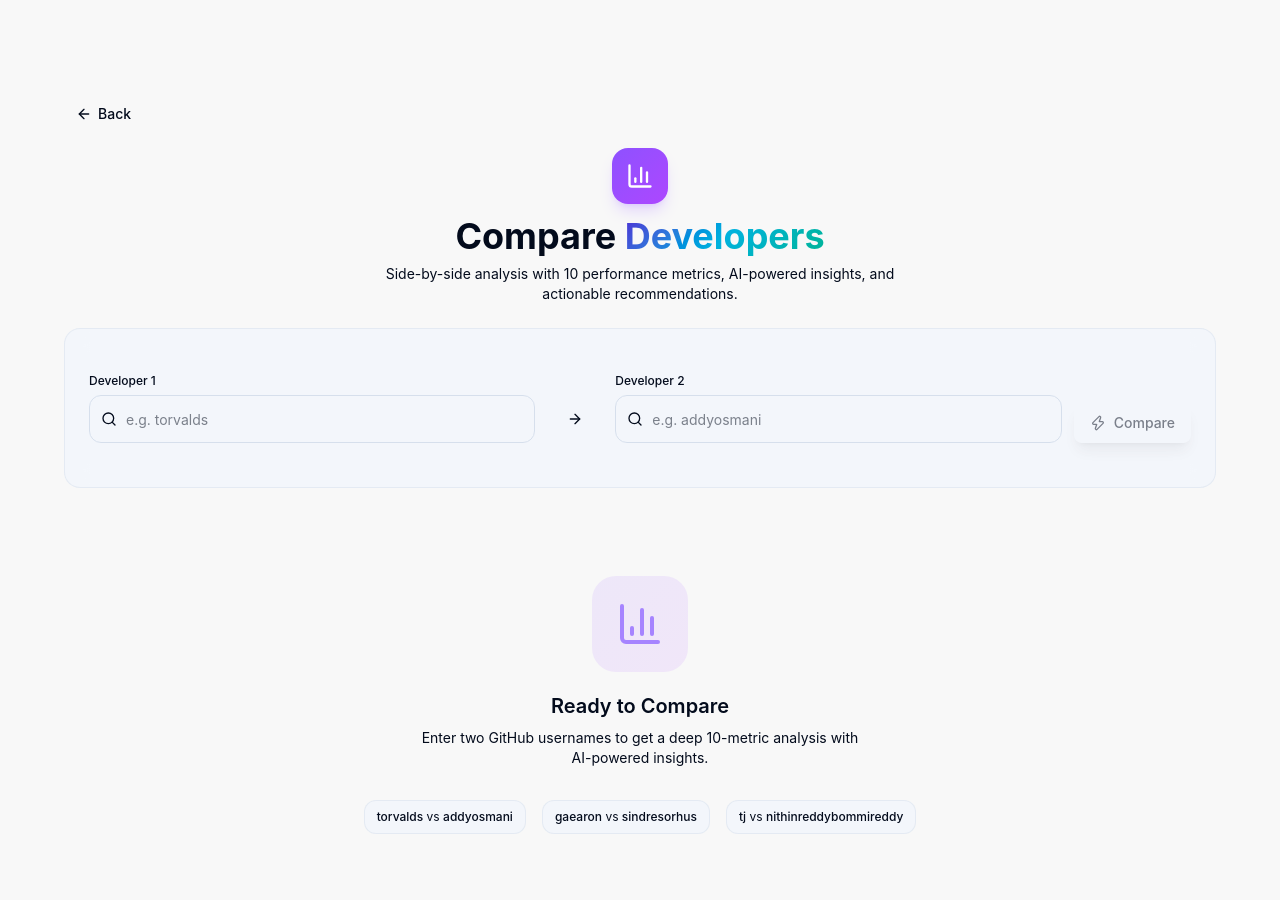
Test case: ComparePage › still renders when one user's data fails — per-user error only
This screenshot has width=1280, height=900.
Type "alice" into the field with placeholder "e.g. torvalds".
click(312, 419); type("alice")  # box [89,395,535,443]
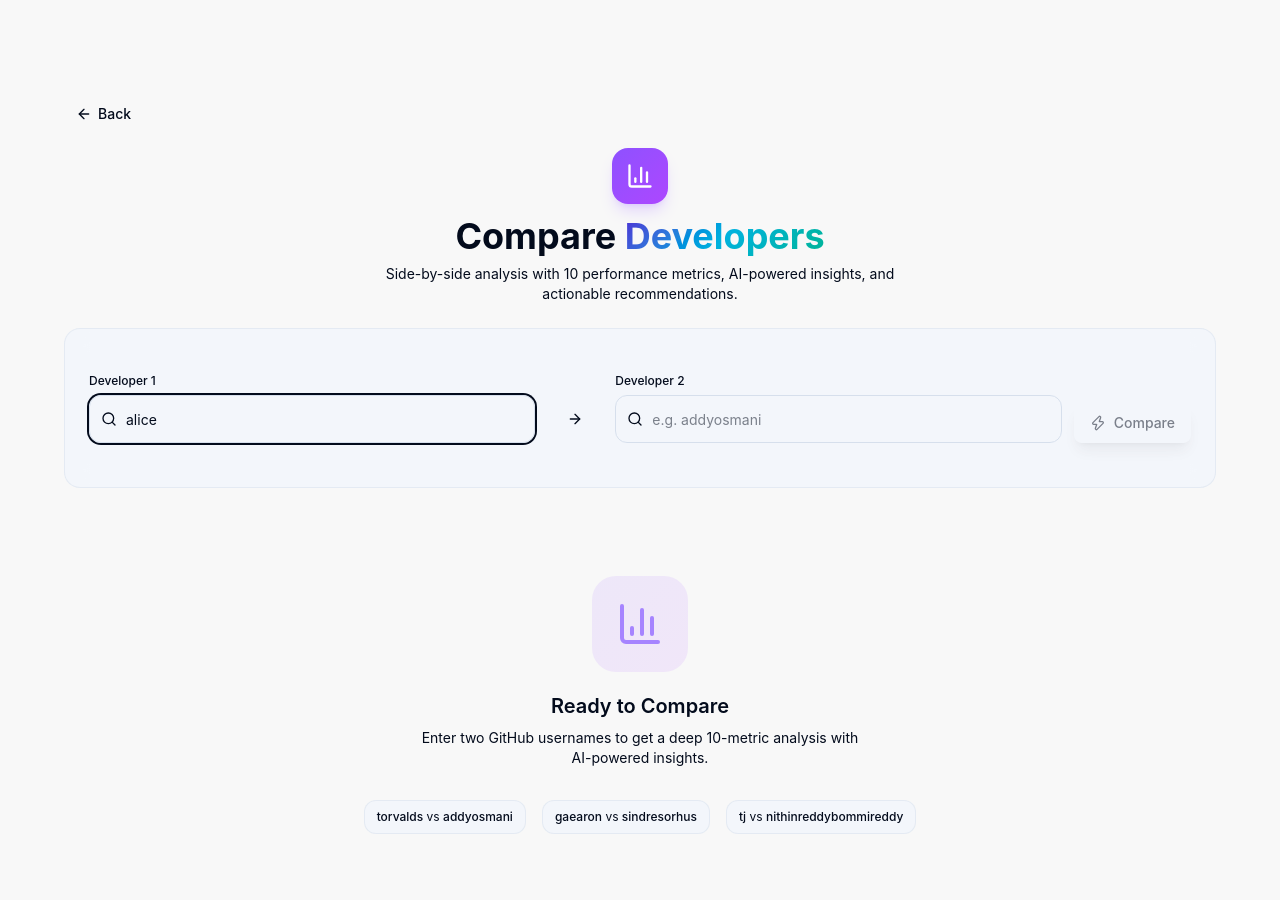
Type "ghost" into the field with placeholder "e.g. addyosmani".
click(839, 419); type("ghost")  # box [615,395,1062,443]
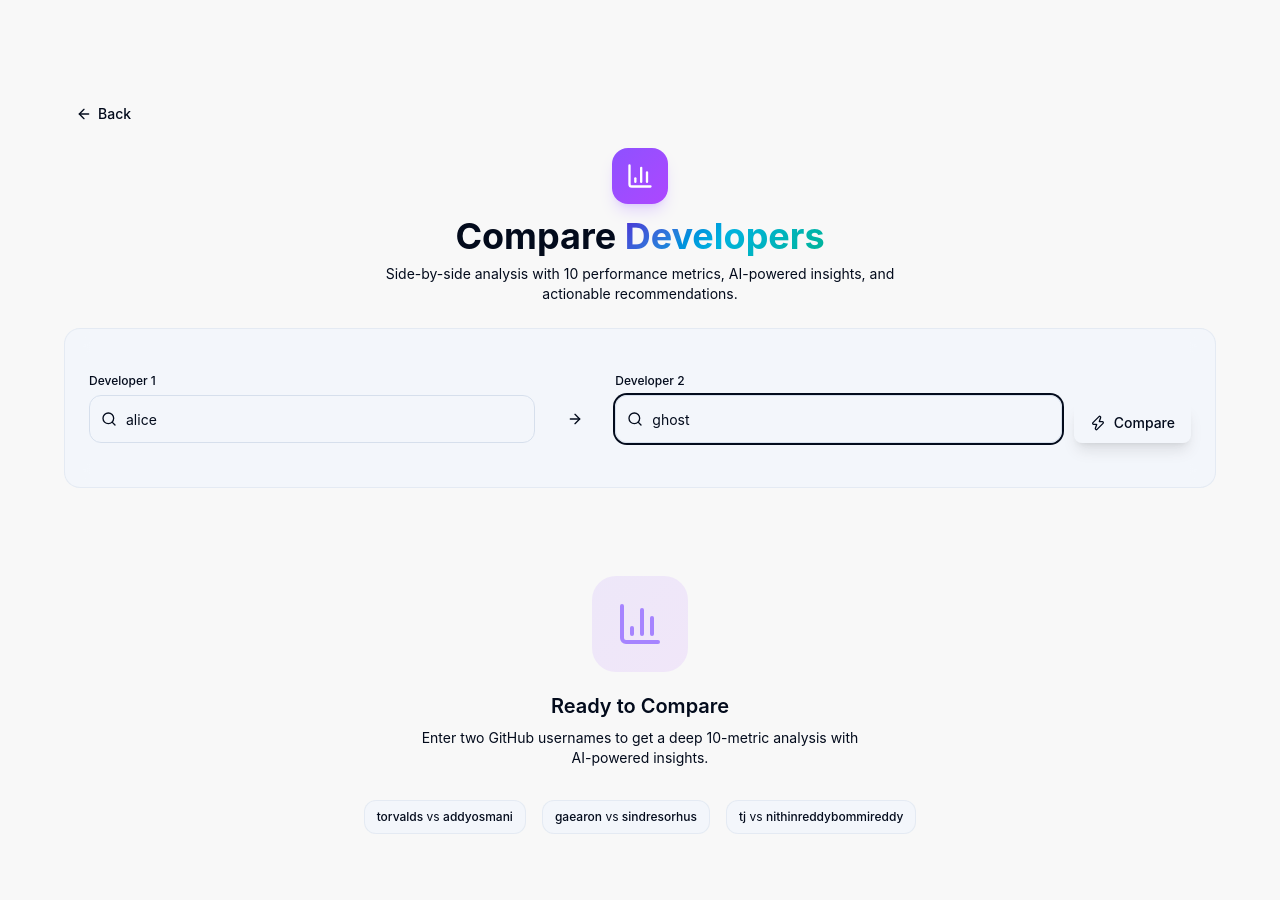
Click the button "Compare".
click(1132, 423)  # box [1074,403,1191,443]
(page scrolled)
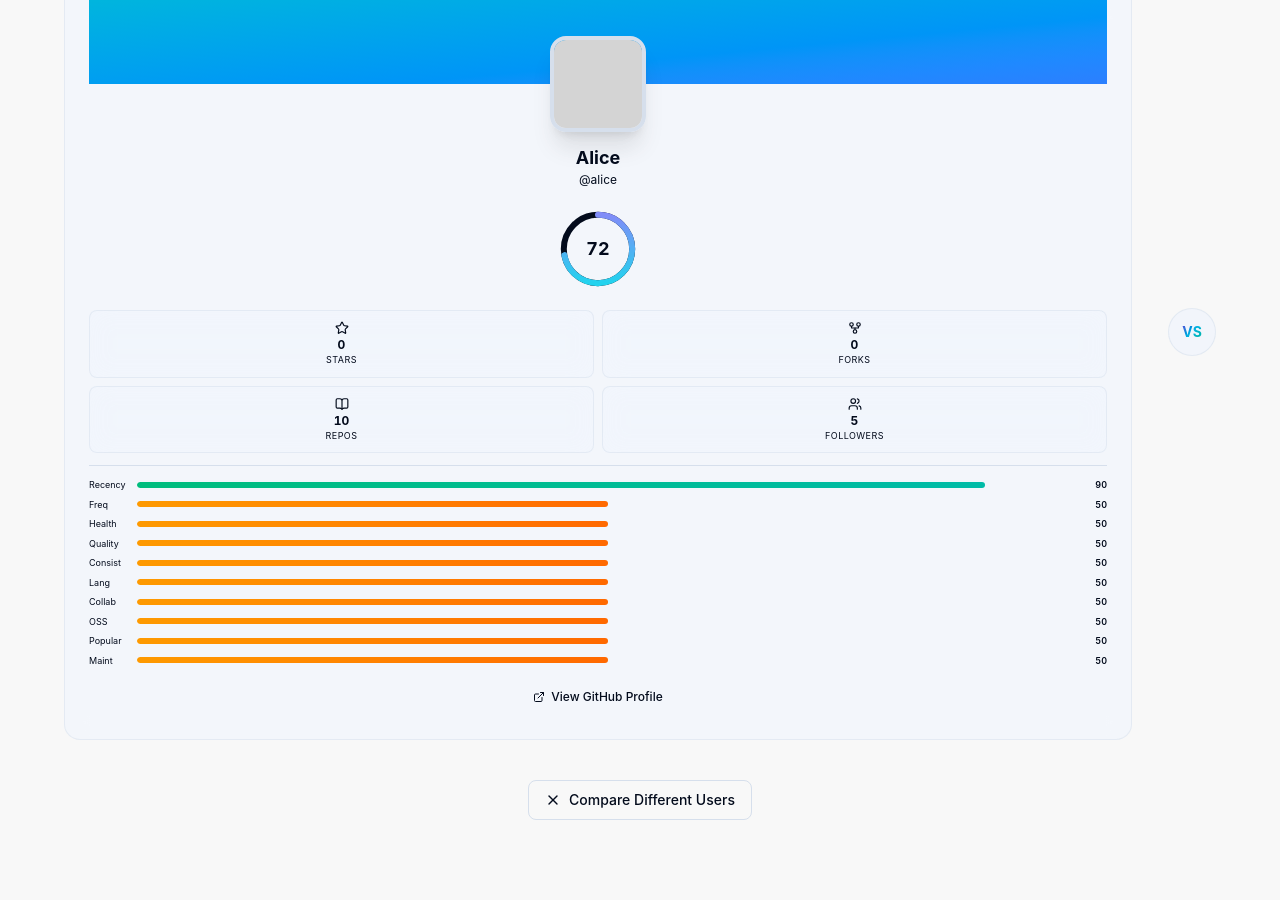
Now the text "90" is shown, box [1095,479,1107,490]
